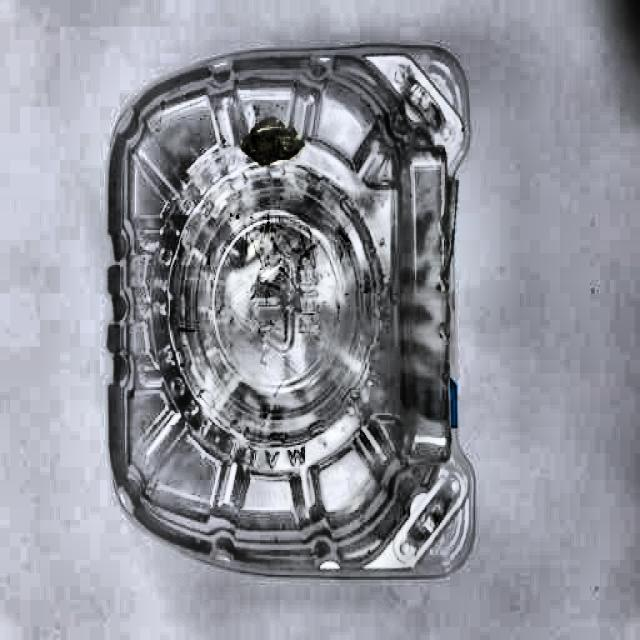plastic: (97, 49, 473, 579)
